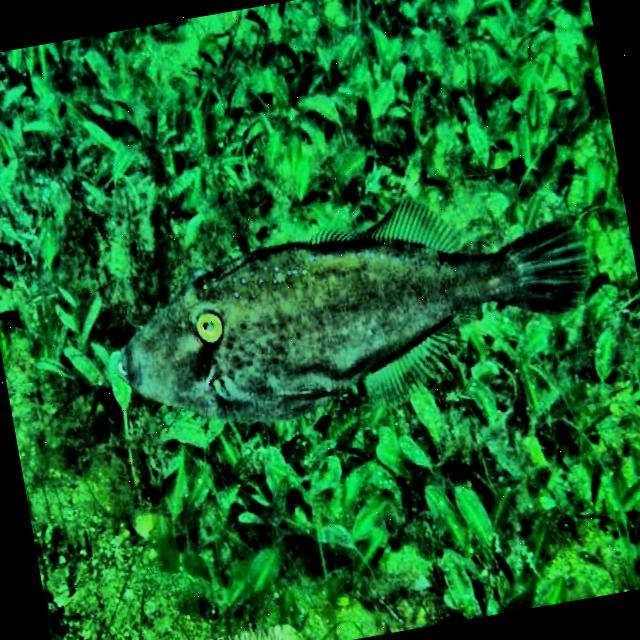fish: (93, 165, 603, 458)
